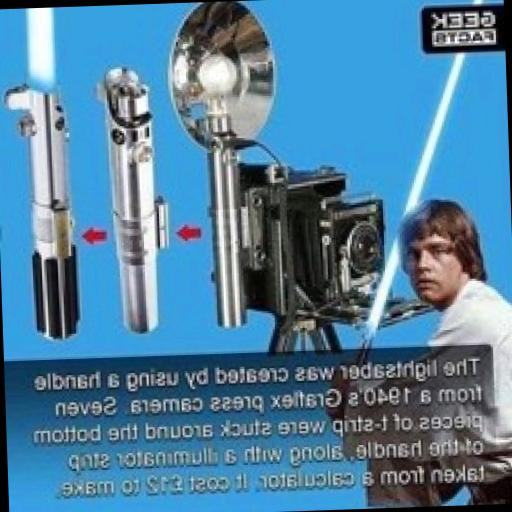human: (335, 195, 512, 509)
lightsaber: (342, 0, 497, 365), (6, 6, 76, 346), (96, 66, 170, 336)
